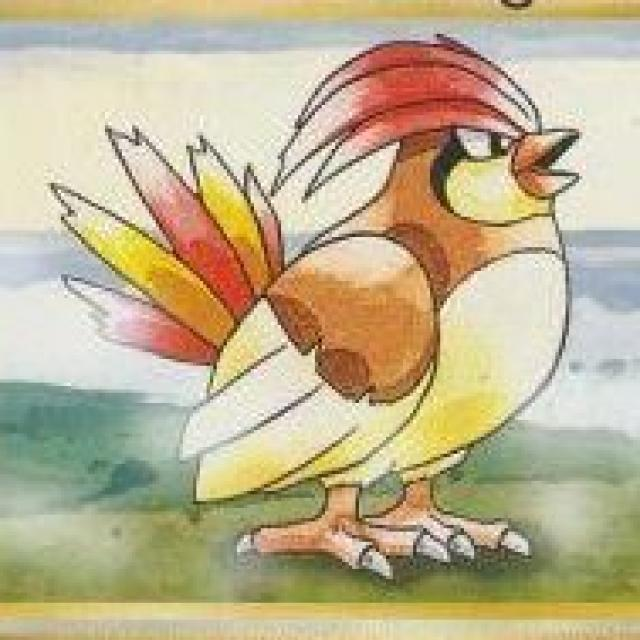Pidgeotto: (58, 23, 578, 571)
